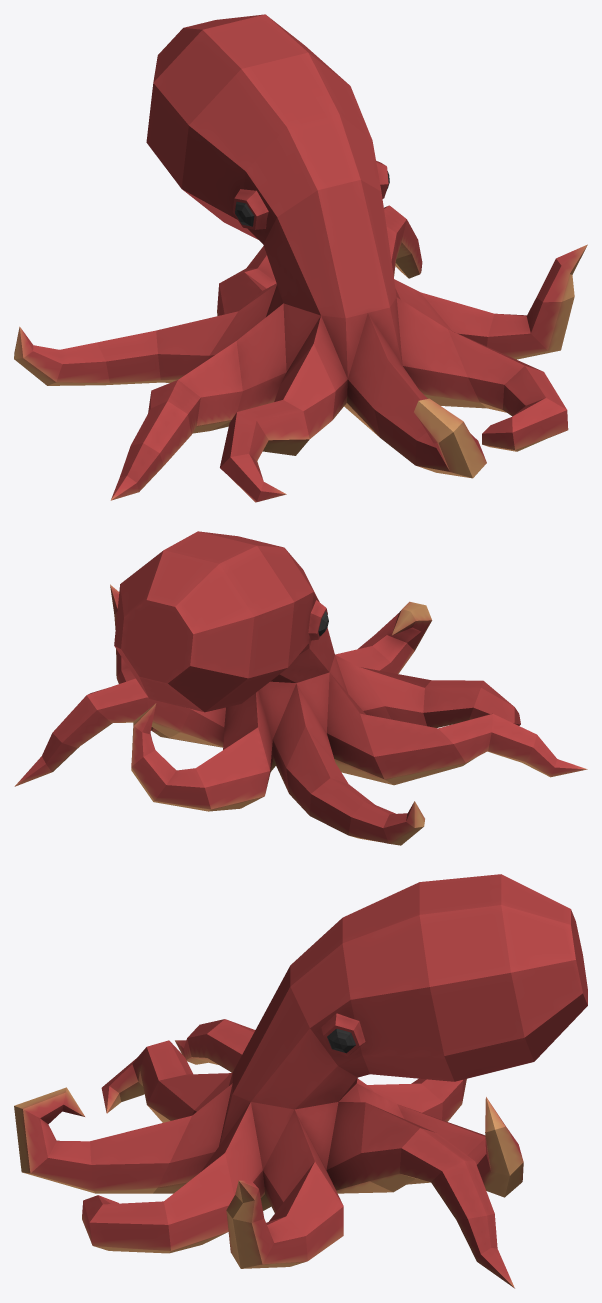
Rendered from sea_octopus.glb.
3 views of the same model, one above another, from view 1: azimuth 30°, elevation 25°; view 2: azimuth 150°, elevation 25°; view 3: azimuth 270°, elevation 25° (orthographic). The views are drawn at different scales.
Visible parts, largest first — view 1: Octopus_mesh; view 2: Octopus_mesh; view 3: Octopus_mesh.
Boxes of the visible parts, x1=… form: Octopus_mesh: x1=14, y1=14, x2=587, y2=502; Octopus_mesh: x1=14, y1=531, x2=587, y2=845; Octopus_mesh: x1=14, y1=874, x2=587, y2=1288.
Size of the model in its own units: 17.74 by 10.08 by 17.24.
Materials: 1 (1 with a texture image).
